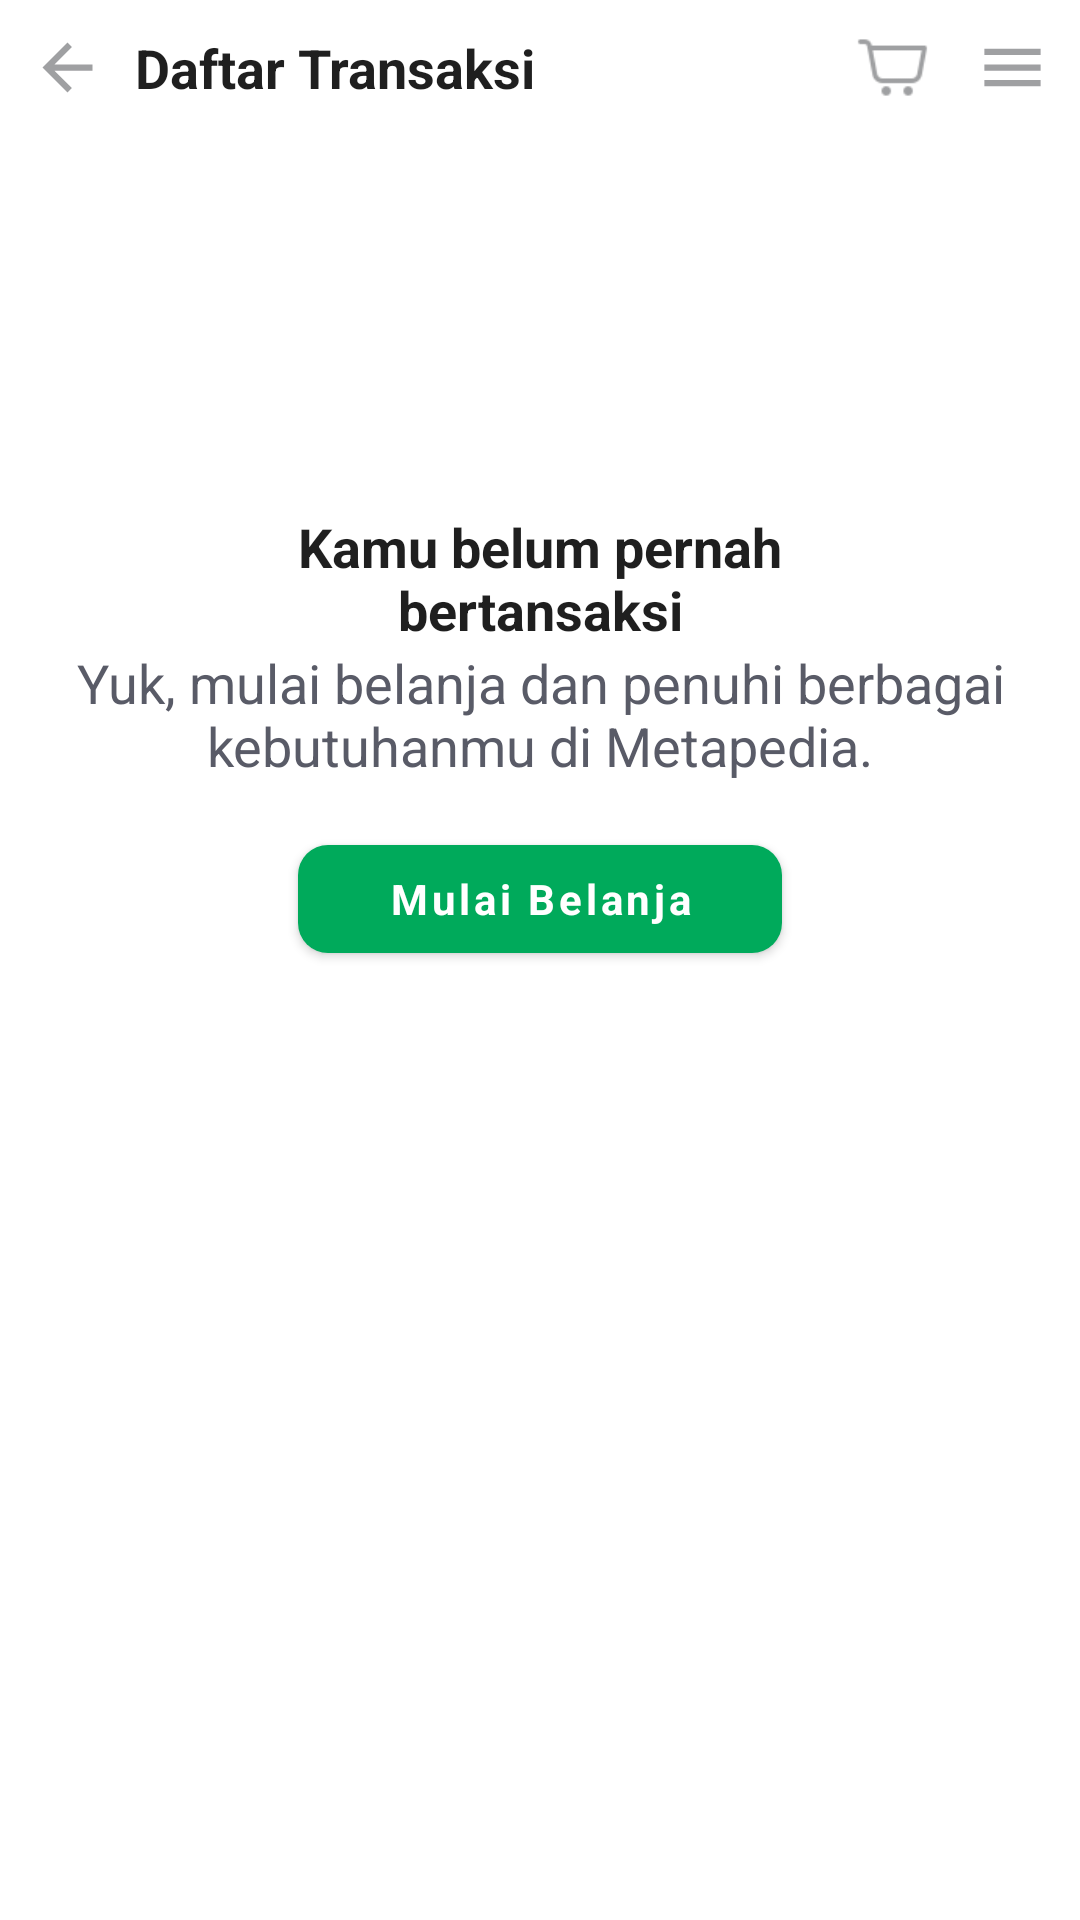

Named icons in this screenshot (1080 x 1920) and their centers, point (x, y):
back: point (68, 67)
cart: point (892, 67)
menu: point (1012, 67)
